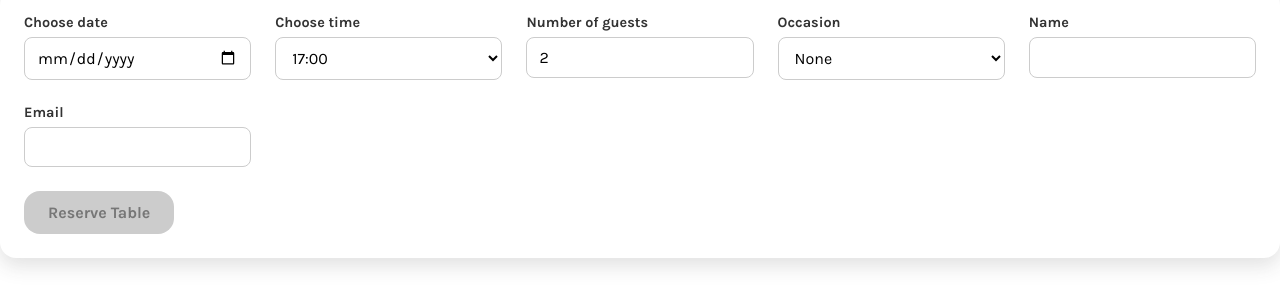
Test: client-side (React) form validation › submit button stays disabled when the name fails the pattern
In the date field labelled "Choose date": (138, 58) [24, 37, 251, 80], type "2026-09-01"
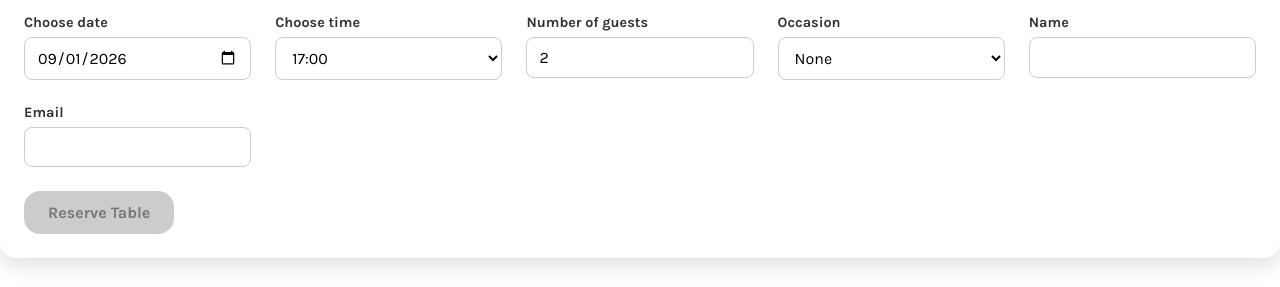
Replace the text in the number field labelled "Number of guests" with "4": (640, 58) [526, 37, 754, 78]
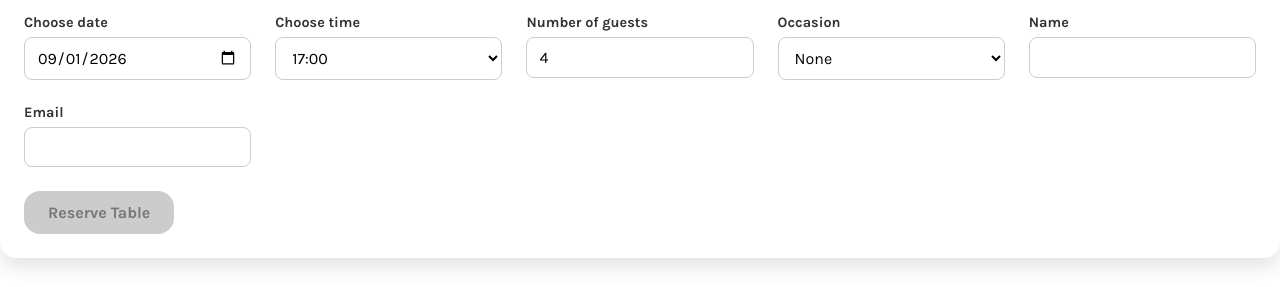
In the field labelled "Name": (1142, 58) [1029, 37, 1256, 78], type "Jane Doe"
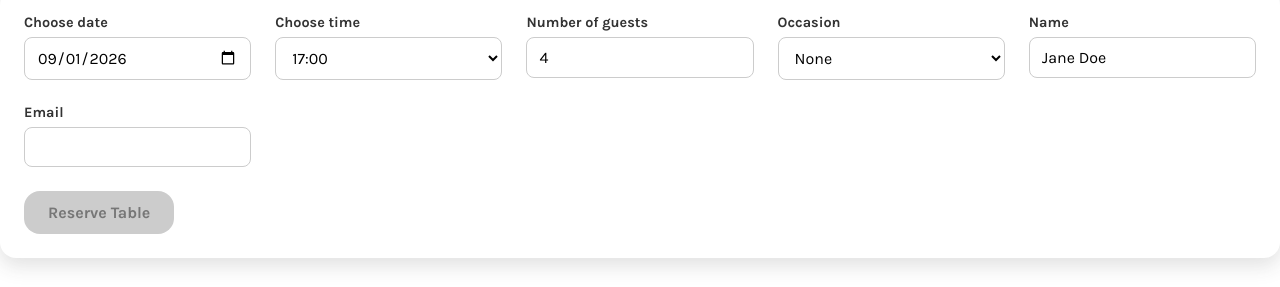
In the field labelled "Email": (138, 147) [24, 127, 251, 167], type "jane@example.com"
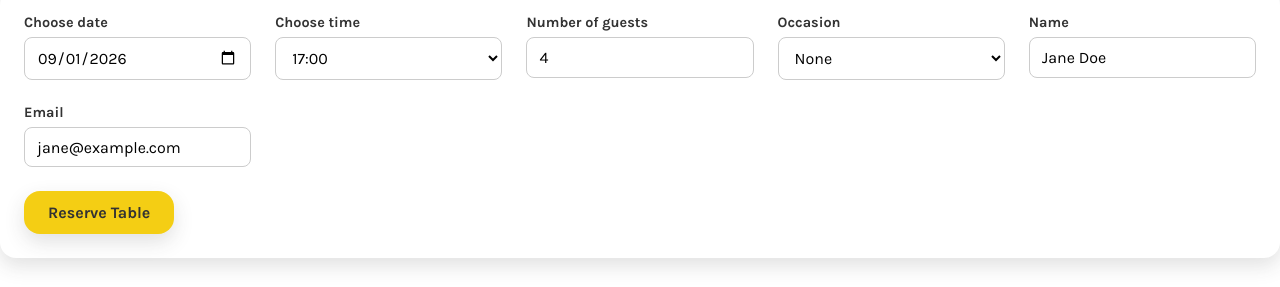
Replace the text in the field labelled "Name" with "1": (1142, 58) [1029, 37, 1256, 78]
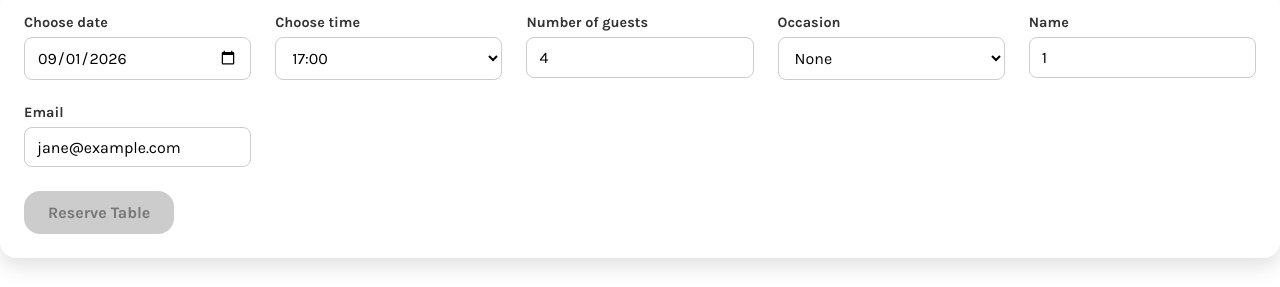
Result: the button "Reserve Table" is disabled at [24, 191, 174, 234]
